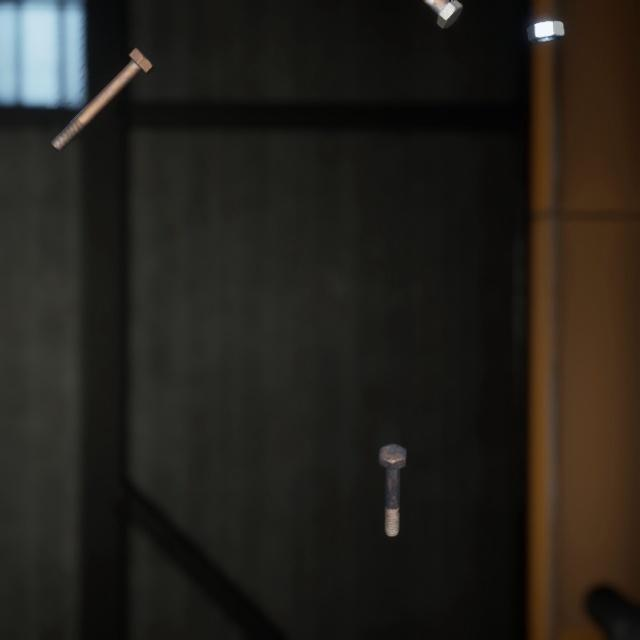bolt: (46, 32, 158, 144), (374, 418, 411, 520), (419, 0, 467, 29)
nut: (522, 7, 569, 38)
